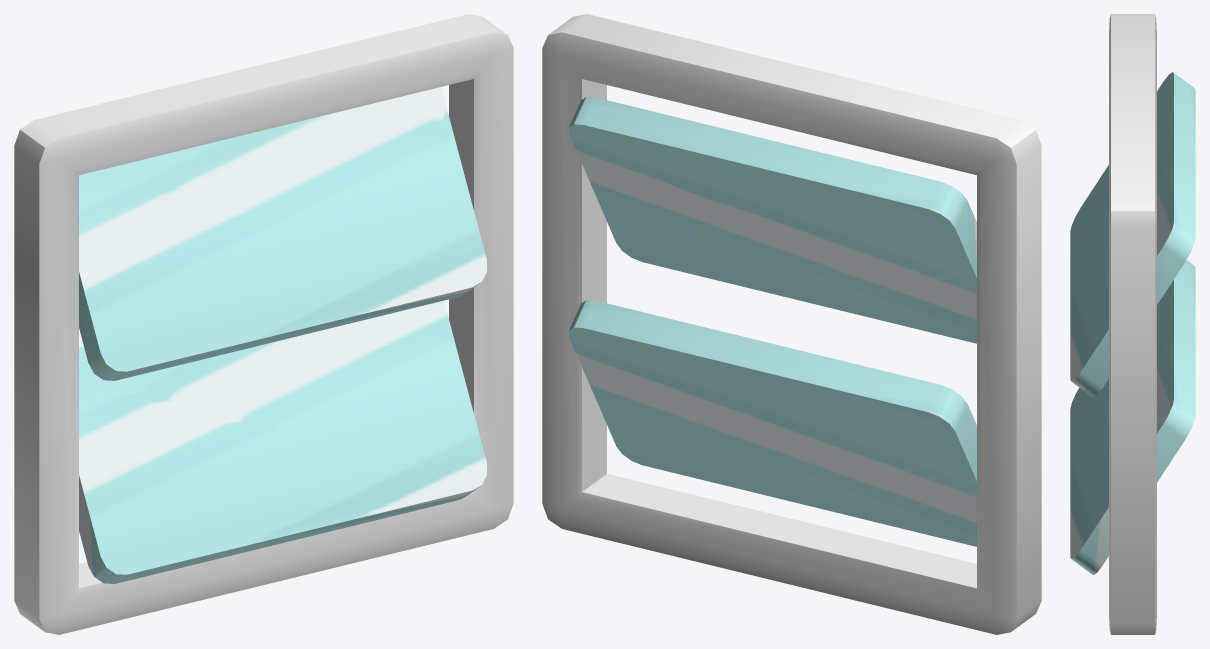
File: Mod_Vent_01.fbx
3 views of the same model, side by side, from view 1: azimuth 30°, elevation 25°; view 2: azimuth 150°, elevation 25°; view 3: azimuth 270°, elevation 25° (orthographic). The views are drawn at different scales.
Visible parts, largest first — view 1: Mod_Vent_01; view 2: Mod_Vent_01; view 3: Mod_Vent_01.
Part boxes in pixels (left/top/right/bottom): Mod_Vent_01: left=14, top=14, right=513, bottom=634; Mod_Vent_01: left=542, top=14, right=1041, bottom=634; Mod_Vent_01: left=1070, top=14, right=1195, bottom=634.
Bounding box in the file's own units: 100 × 100 × 26.2.
